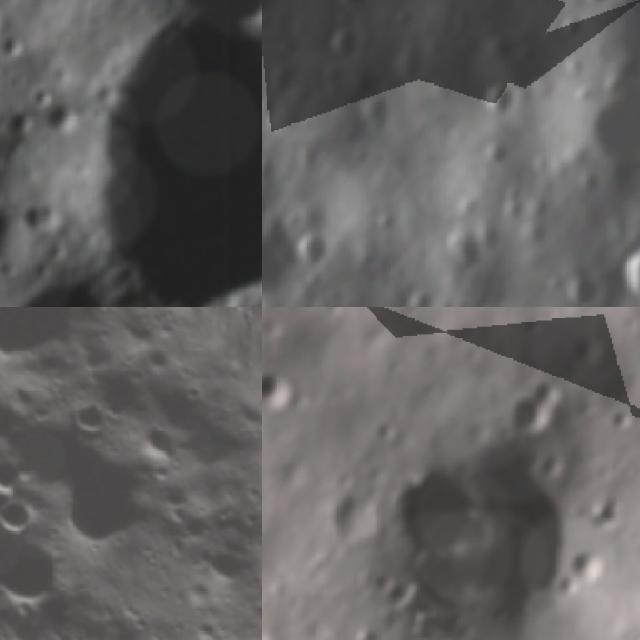crater: (80, 17, 262, 307), (0, 307, 81, 640), (544, 57, 640, 226), (384, 458, 503, 565), (262, 110, 324, 307), (0, 307, 106, 388), (193, 533, 260, 599), (471, 70, 539, 130), (506, 381, 572, 439), (319, 16, 372, 74), (292, 221, 344, 276), (133, 417, 186, 470), (448, 225, 497, 282), (351, 81, 400, 136), (61, 395, 112, 446), (0, 489, 39, 549), (555, 267, 611, 307), (17, 198, 68, 238), (0, 440, 32, 503), (613, 237, 640, 307), (262, 373, 301, 419), (262, 0, 296, 47), (570, 550, 611, 588), (4, 103, 41, 144), (574, 335, 610, 372), (554, 8, 591, 43), (44, 99, 80, 134), (27, 79, 62, 111), (328, 0, 381, 21), (0, 28, 35, 59), (611, 406, 639, 435), (520, 314, 548, 342), (466, 294, 520, 307), (234, 630, 262, 640)
